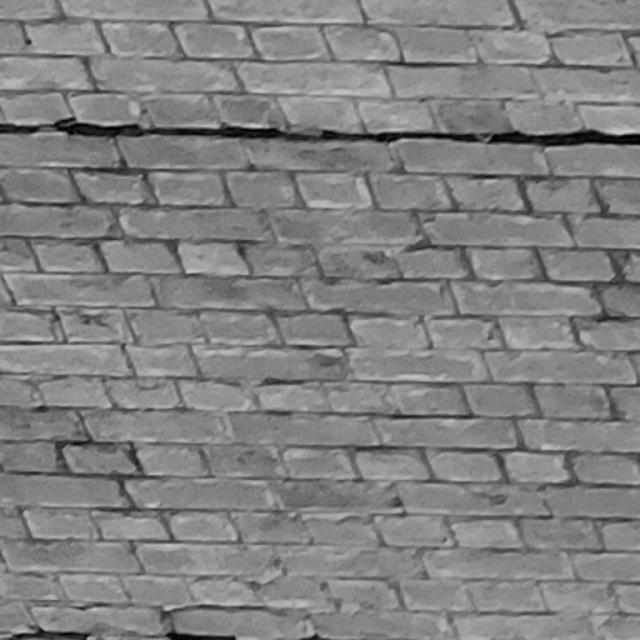crack: (1, 118, 640, 146)
